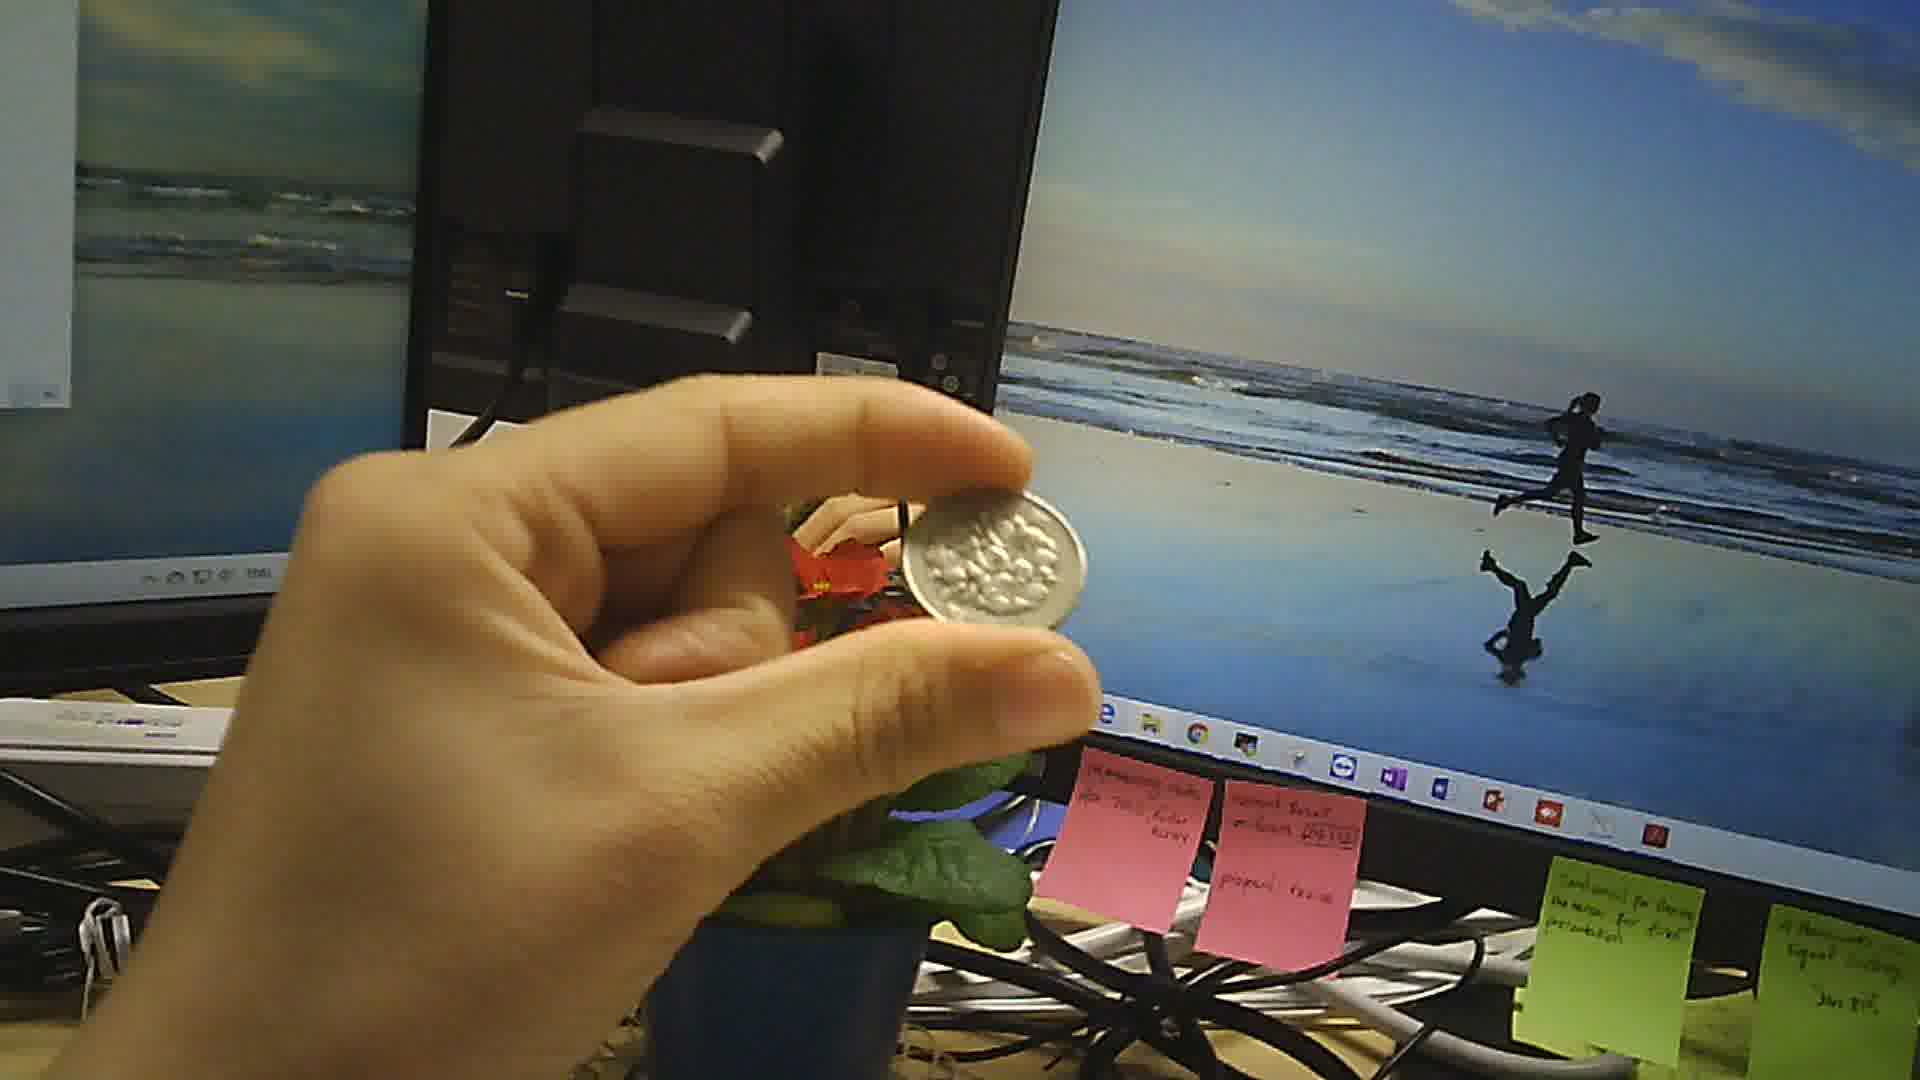100 Yen: (903, 477, 1091, 640)
